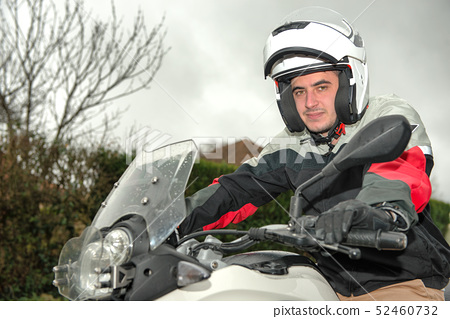helmet: (257, 16, 368, 120)
